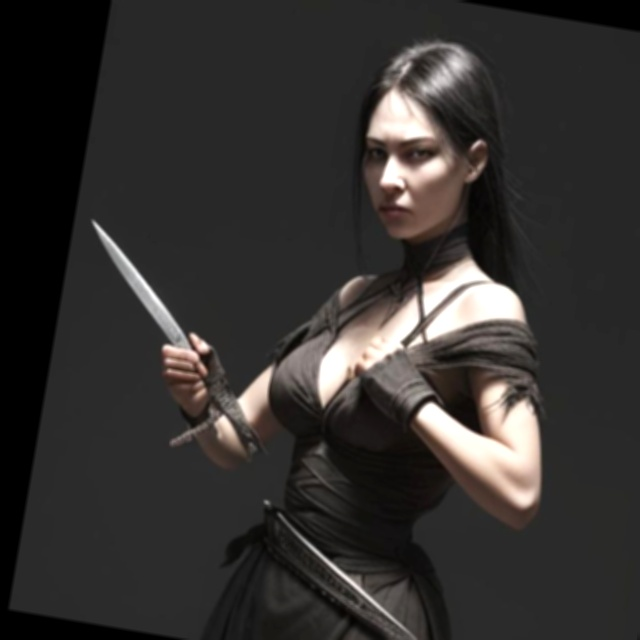Sharp-Object: (65, 216, 242, 393)
